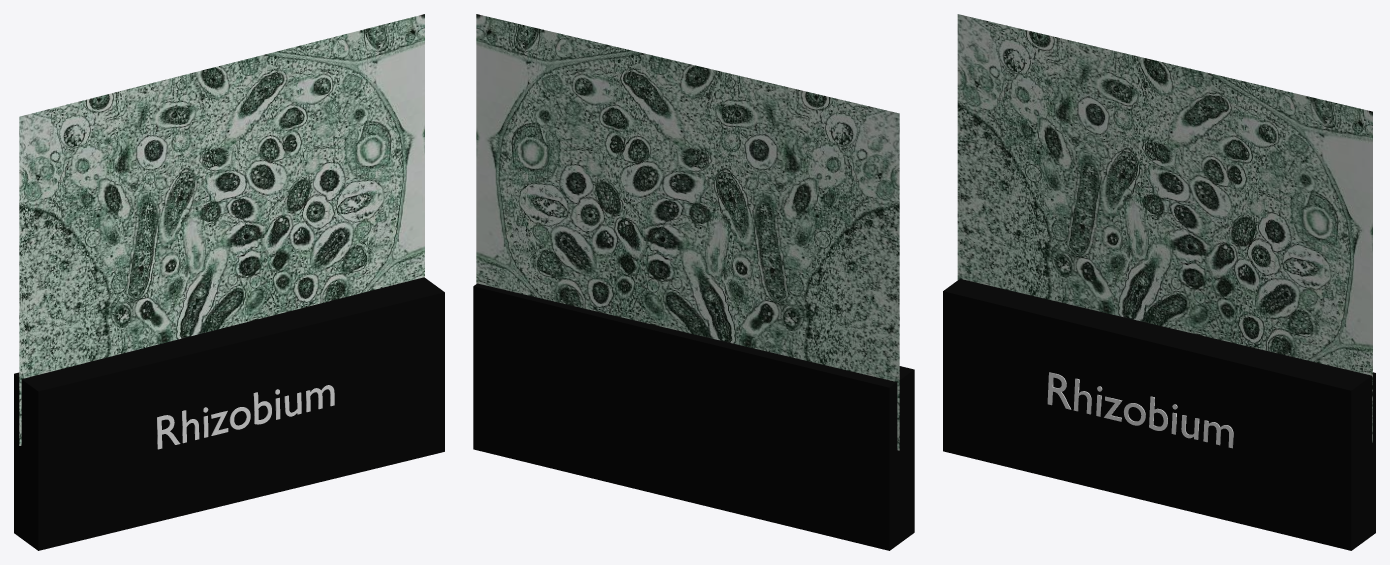
The model's file is rhizobium.gltf.
3 renders of one model, left to right at view 1: azimuth 30°, elevation 25°; view 2: azimuth 150°, elevation 25°; view 3: azimuth 330°, elevation 25°, orthographic. The views are drawn at different scales.
Visible parts, largest first — view 1: Rhizobium1, Cube.003, Text.003; view 2: Rhizobium1, Cube.003; view 3: Rhizobium1, Cube.003, Text.003.
Part boxes in pixels (x1,y1,x2,y2): Rhizobium1: (19, 14, 424, 445); Cube.003: (14, 277, 444, 550); Text.003: (157, 385, 334, 449); Rhizobium1: (476, 14, 899, 450); Cube.003: (473, 283, 914, 550); Rhizobium1: (957, 14, 1372, 442); Cube.003: (943, 279, 1375, 550); Text.003: (1047, 372, 1233, 448).
Size of the model in its own units: 2.05 by 2.02 by 0.2799.
2 materials, 1 textured.
